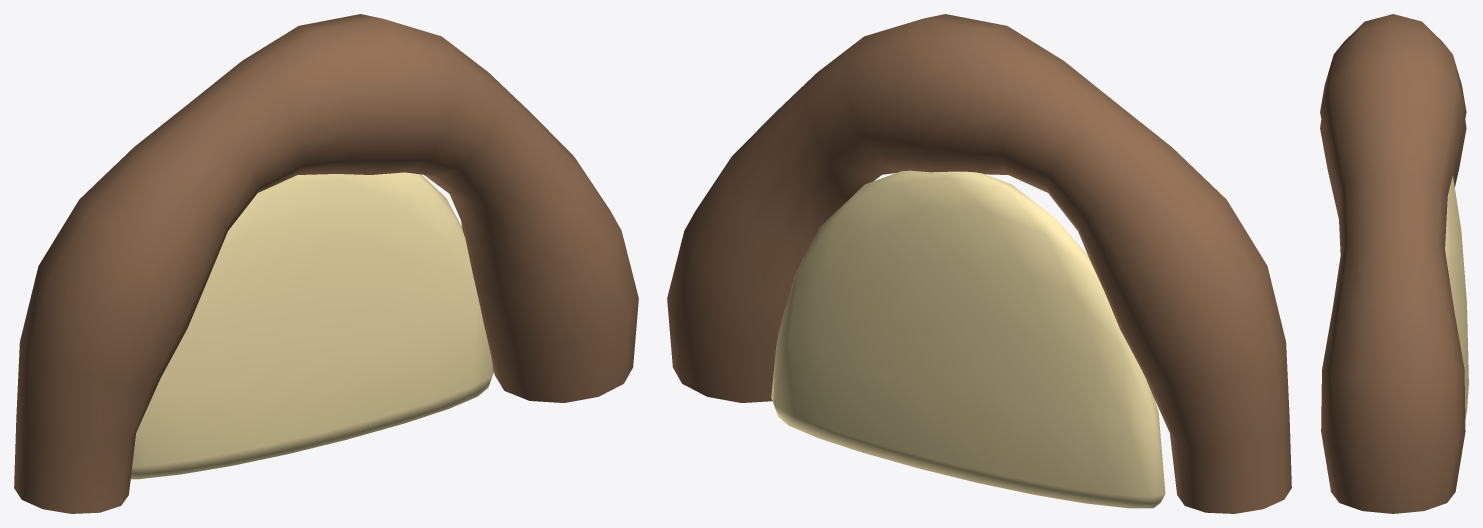
Rendered from SM_Forest_RootAlcove.fbx.
3 views of the same model, side by side, from view 1: azimuth 30°, elevation 25°; view 2: azimuth 150°, elevation 25°; view 3: azimuth 270°, elevation 25° (orthographic). The views are drawn at different scales.
Parts seen in each view (by area): view 1: SM_Forest_RootAlcove; view 2: SM_Forest_RootAlcove; view 3: SM_Forest_RootAlcove.
Part boxes in pixels (box(x1,y1,x2,y2)): SM_Forest_RootAlcove: box(14, 14, 638, 513); SM_Forest_RootAlcove: box(667, 14, 1291, 513); SM_Forest_RootAlcove: box(1320, 14, 1468, 513).
Size of the model in its own units: 283 by 185 by 66.94.
